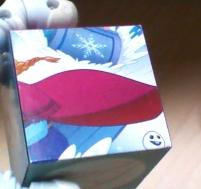Red1: (9, 25, 171, 162)
